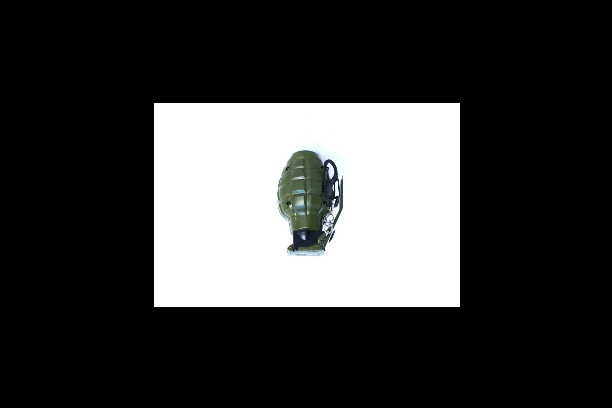e1: (276, 150, 346, 256)
